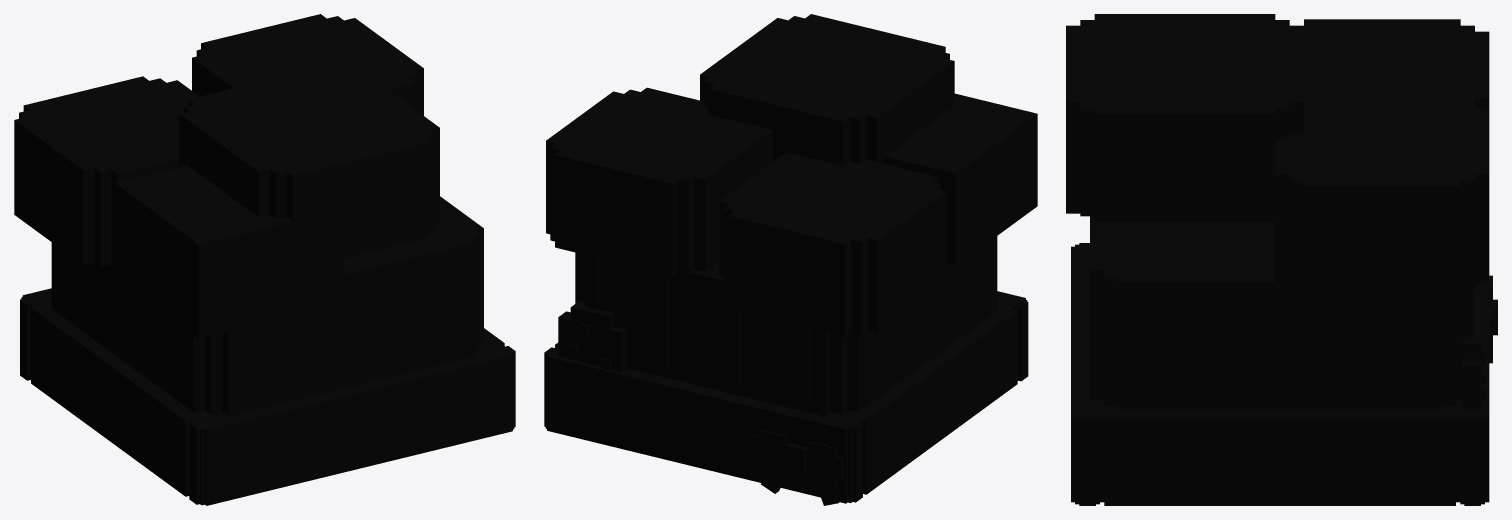
File: hat_chef.obj
3 renders of one model, left to right at view 1: azimuth 30°, elevation 25°; view 2: azimuth 150°, elevation 25°; view 3: azimuth 270°, elevation 25°, orthographic. The views are drawn at different scales.
Size of the model in its own units: 0.5875 by 0.5261 by 0.5675.
